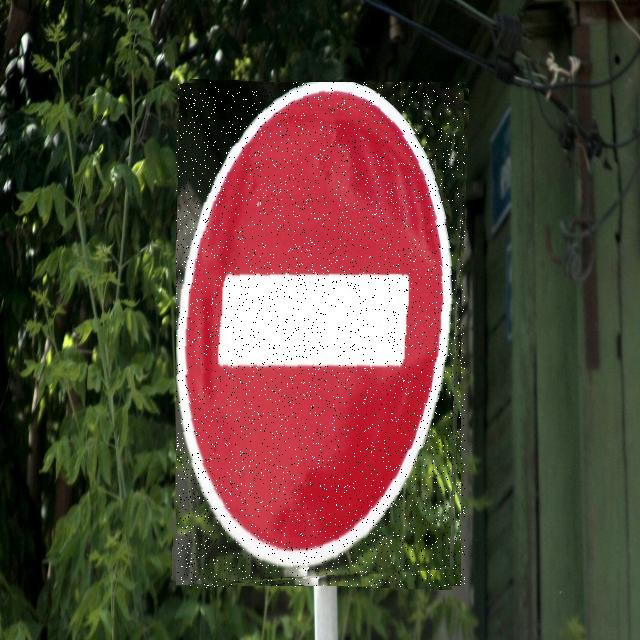no entry: (176, 82, 465, 588)
